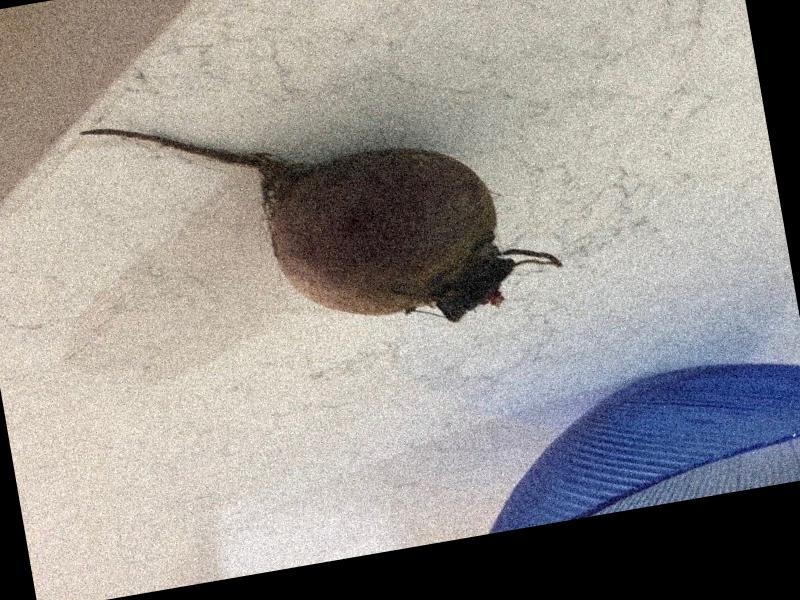Beet: (82, 53, 565, 377)
